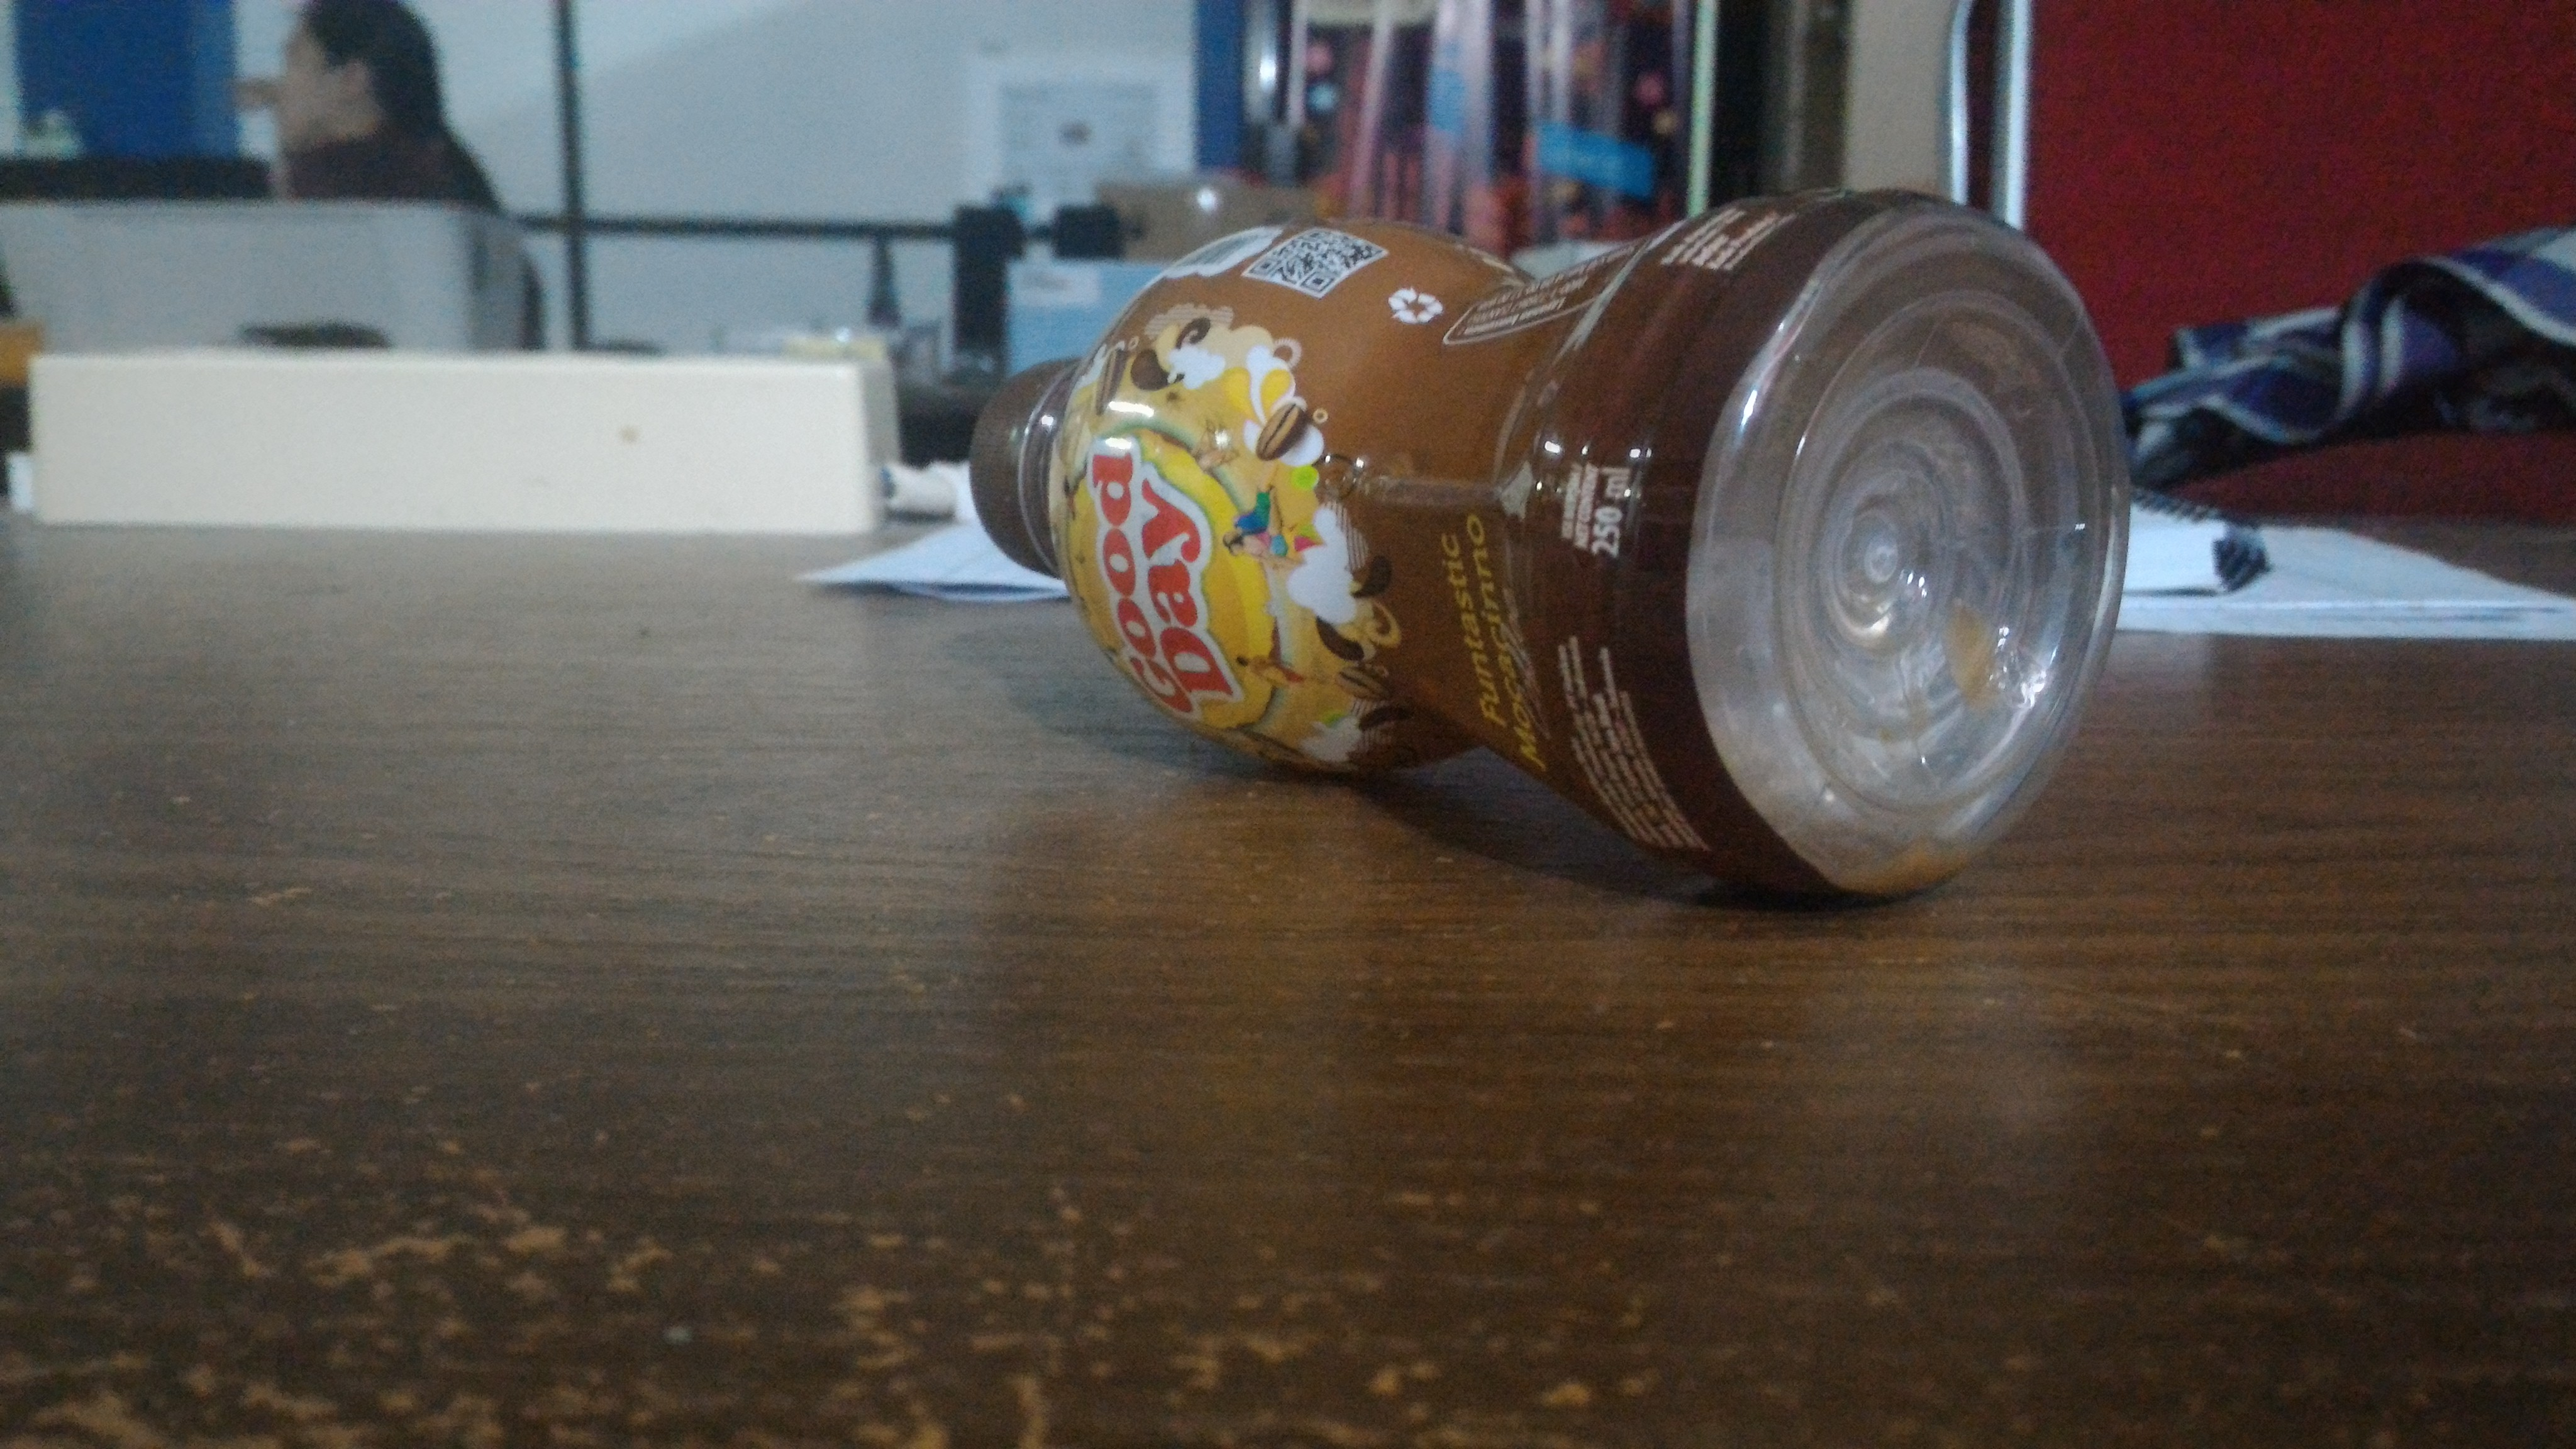botol: (947, 182, 2132, 897), (970, 182, 2132, 897), (947, 221, 2132, 897)
